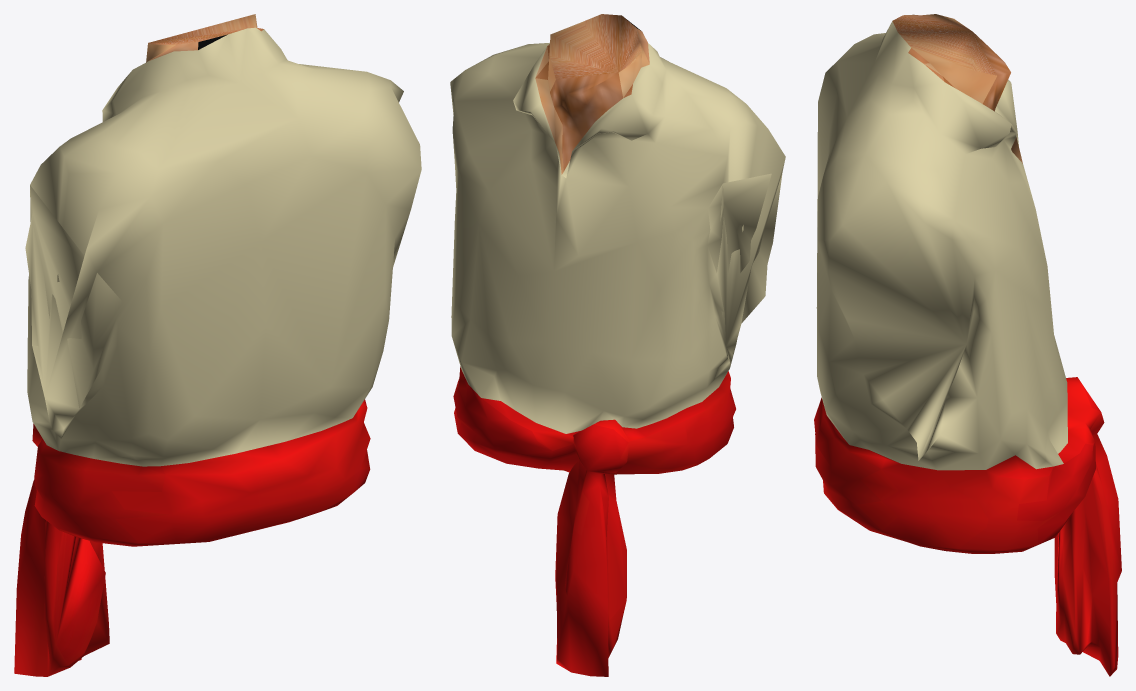
File: torso.obj
3 renders of one model, left to right at view 1: azimuth 30°, elevation 25°; view 2: azimuth 150°, elevation 25°; view 3: azimuth 270°, elevation 25°, orthographic. The views are drawn at different scales.
Visible parts, largest first — view 1: model.035; view 2: model.035; view 3: model.035.
Boxes of the visible parts, x1,y1,x2,y2 form: model.035: [14, 14, 421, 676]; model.035: [450, 14, 785, 676]; model.035: [814, 14, 1121, 676].
Size of the model in its own units: 0.134 by 0.2473 by 0.1024.
